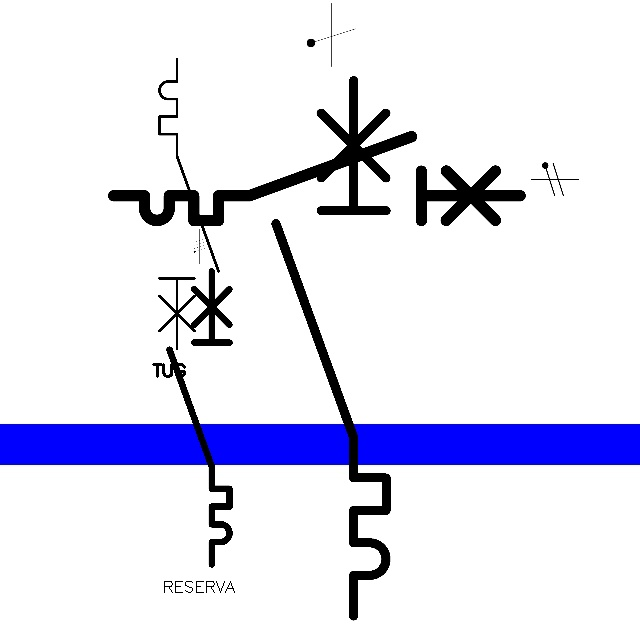interruptor_termomagnetico: (262, 66, 400, 629), (103, 126, 531, 231), (162, 263, 237, 571), (152, 52, 226, 356)
